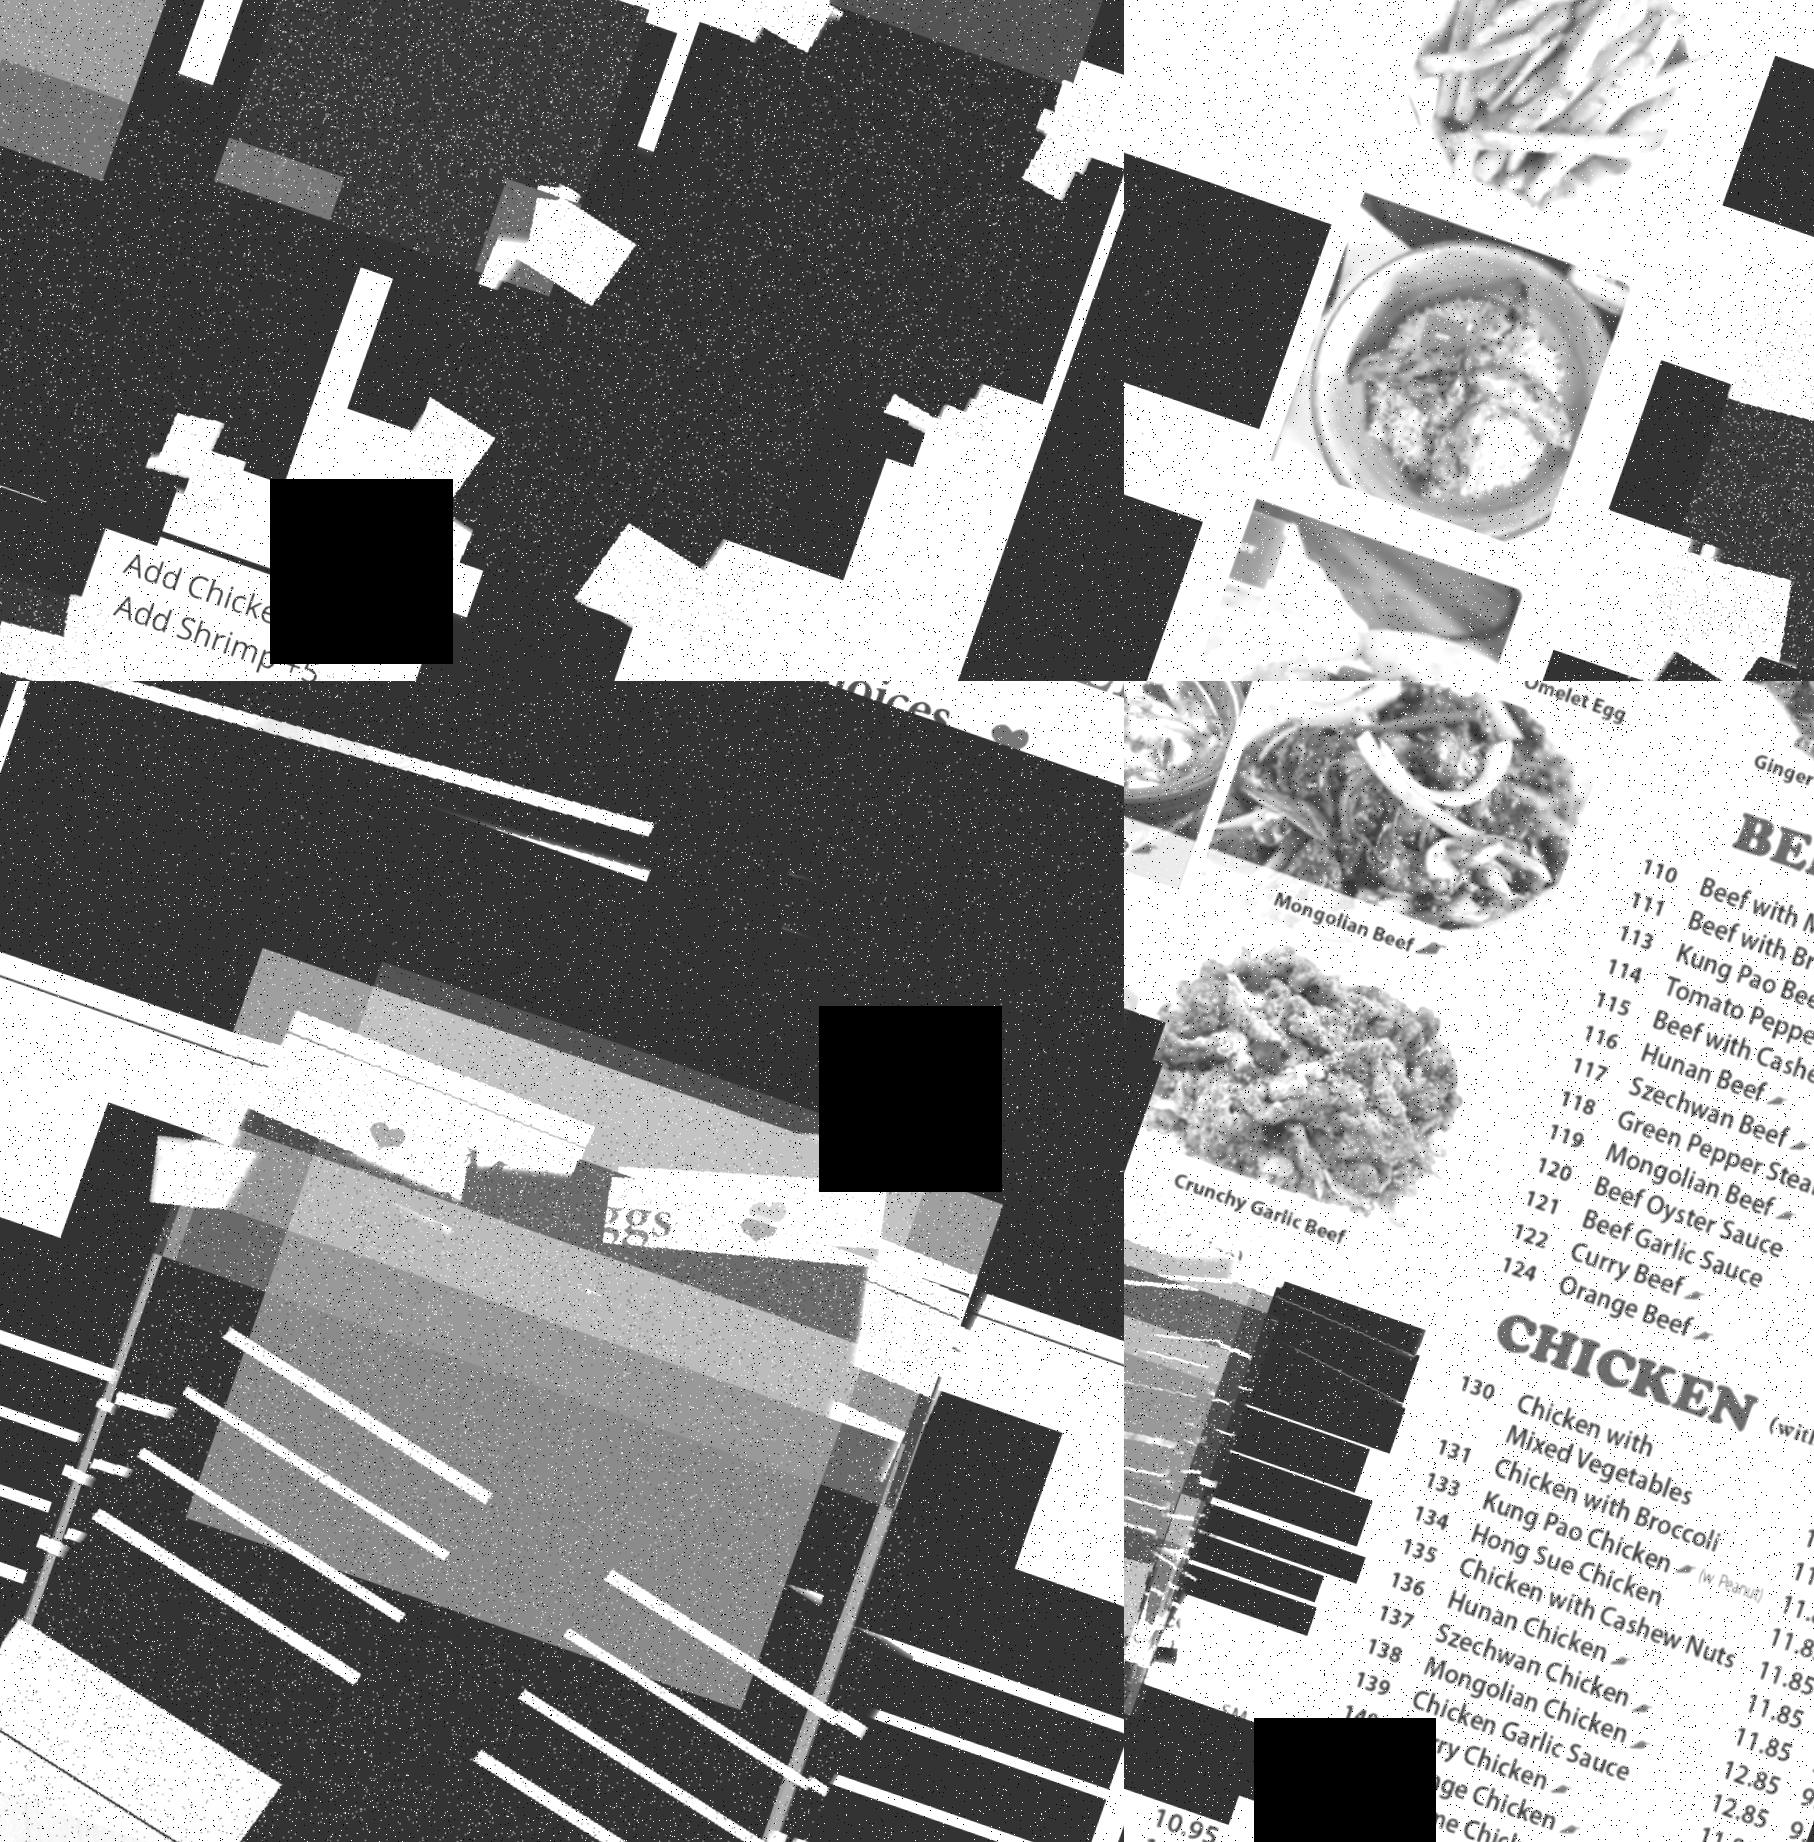Menu-Items: (12, 927, 1032, 1842), (0, 1017, 1000, 1842), (0, 681, 1125, 1359), (0, 1100, 958, 1842), (0, 1178, 939, 1842), (0, 1227, 958, 1842), (198, 942, 960, 1701), (2, 681, 1125, 1121), (404, 156, 894, 644), (653, 0, 1125, 429), (0, 47, 374, 517), (229, 0, 689, 286), (1125, 1090, 1460, 1415), (1125, 1168, 1306, 1716), (1125, 1131, 1306, 1663), (1125, 28, 1356, 420), (1125, 1096, 1296, 1596), (1356, 1643, 1814, 1829), (1369, 1606, 1814, 1797), (1125, 1168, 1439, 1438), (1440, 1345, 1814, 1563), (1382, 1575, 1814, 1762), (1402, 1473, 1814, 1668), (1390, 1545, 1814, 1729), (1349, 1678, 1814, 1842), (1402, 1516, 1814, 1697), (1429, 1410, 1814, 1595), (1430, 1453, 1814, 1629), (1125, 1216, 1258, 1717), (1337, 1711, 1814, 1842), (1663, 274, 1814, 681), (1125, 1249, 1246, 1747), (1502, 1222, 1814, 1413), (1522, 1124, 1814, 1314), (1515, 1154, 1814, 1339), (1125, 1354, 1236, 1842), (1513, 1193, 1814, 1370), (1533, 1088, 1814, 1269), (1548, 1056, 1814, 1237), (1334, 1747, 1814, 1842), (1563, 1025, 1814, 1206), (0, 0, 251, 179), (1571, 993, 1814, 1173), (1580, 958, 1814, 1143), (759, 0, 1125, 105), (1595, 928, 1814, 1101), (1125, 1604, 1282, 1842), (1606, 895, 1814, 1075), (1610, 855, 1814, 1036), (1623, 821, 1814, 1005), (1312, 1772, 1809, 1842), (0, 488, 148, 681), (1125, 1634, 1261, 1842), (1125, 1669, 1262, 1842)
